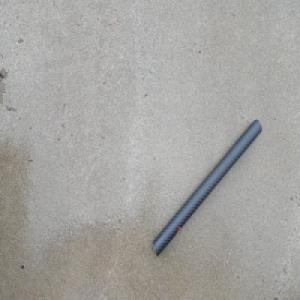LuggagePart: (152, 120, 262, 261)
